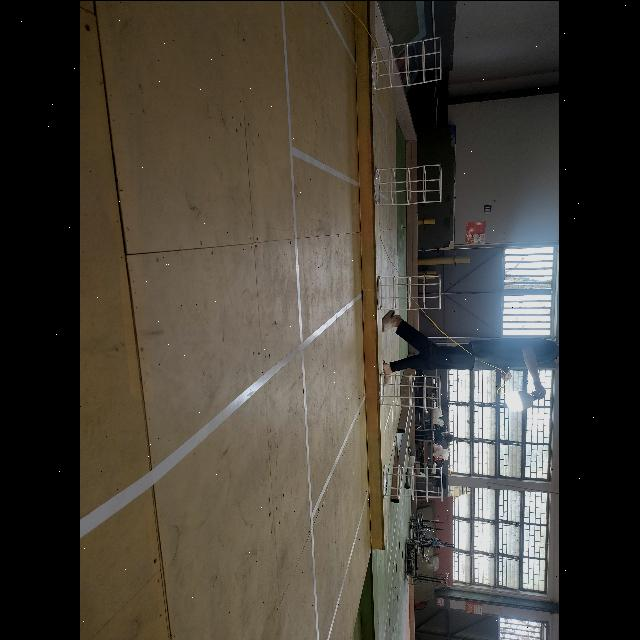S: (372, 34, 444, 92), (374, 161, 444, 209), (382, 462, 450, 502), (376, 271, 442, 311), (378, 375, 444, 411)
